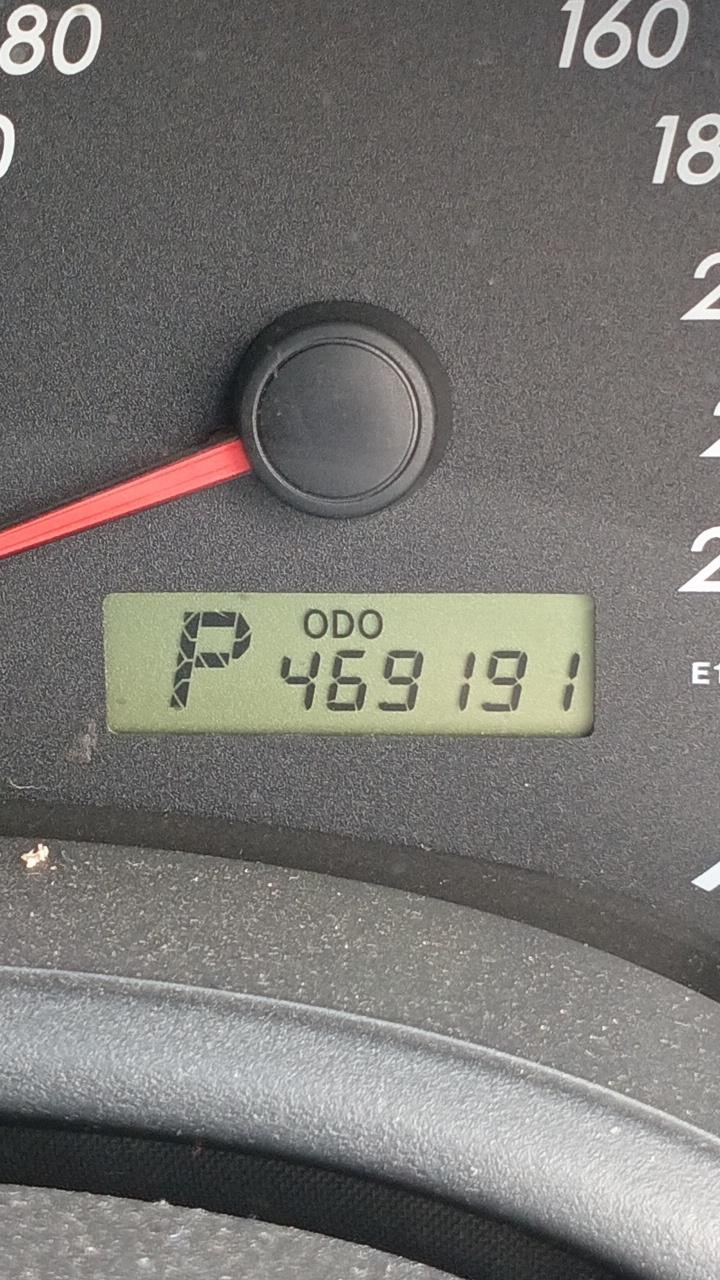1: (454, 651, 477, 712), (560, 652, 582, 713)
4: (279, 651, 321, 713)
6: (325, 650, 368, 712)
9: (479, 649, 529, 713), (376, 649, 424, 712)
X: (165, 610, 254, 713), (358, 609, 384, 640), (303, 609, 328, 640), (331, 609, 354, 639)
odometer: (100, 590, 598, 739)
